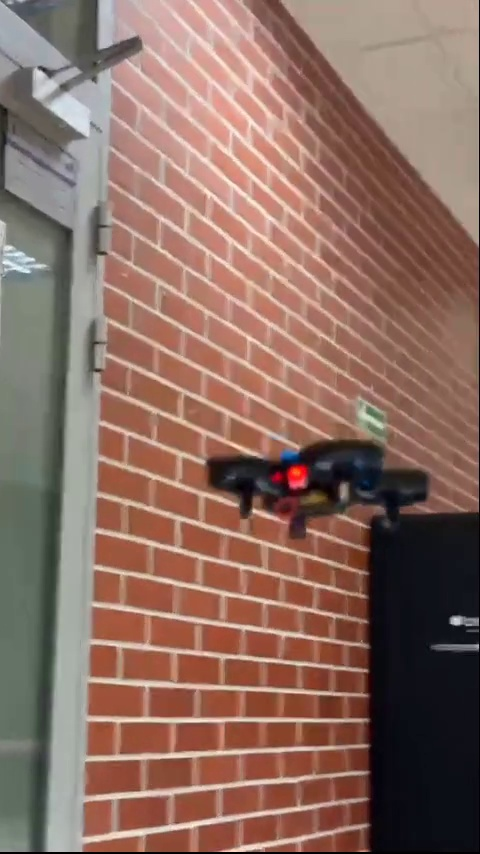drone: (213, 442, 426, 541)
